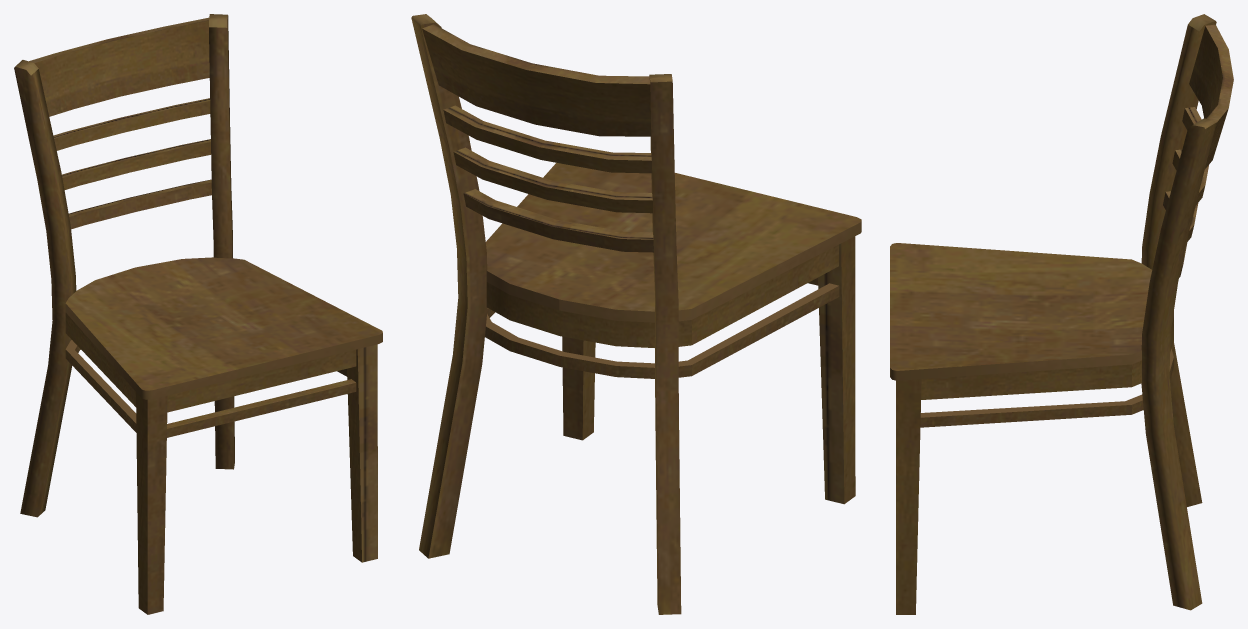
Rendered from chair.obj.
3 renders of one model, left to right at view 1: azimuth 30°, elevation 25°; view 2: azimuth 150°, elevation 25°; view 3: azimuth 270°, elevation 25°, orthographic. The views are drawn at different scales.
Parts seen in each view (by area): view 1: Model001_4_chair_1_0_0; view 2: Model001_4_chair_1_0_0; view 3: Model001_4_chair_1_0_0.
Part boxes in pixels (x1=…): Model001_4_chair_1_0_0: x1=14, y1=14, x2=382, y2=614; Model001_4_chair_1_0_0: x1=411, y1=14, x2=861, y2=614; Model001_4_chair_1_0_0: x1=890, y1=14, x2=1233, y2=614.
Size of the model in its own units: 0.5334 by 0.9375 by 0.6047.
